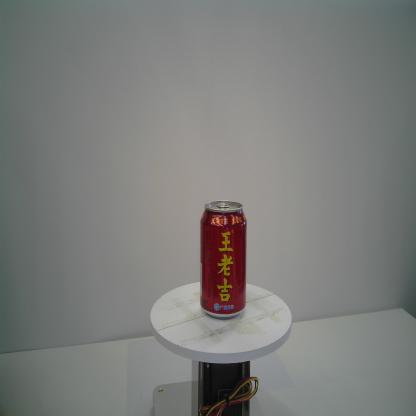Drink: (199, 198, 248, 318)
